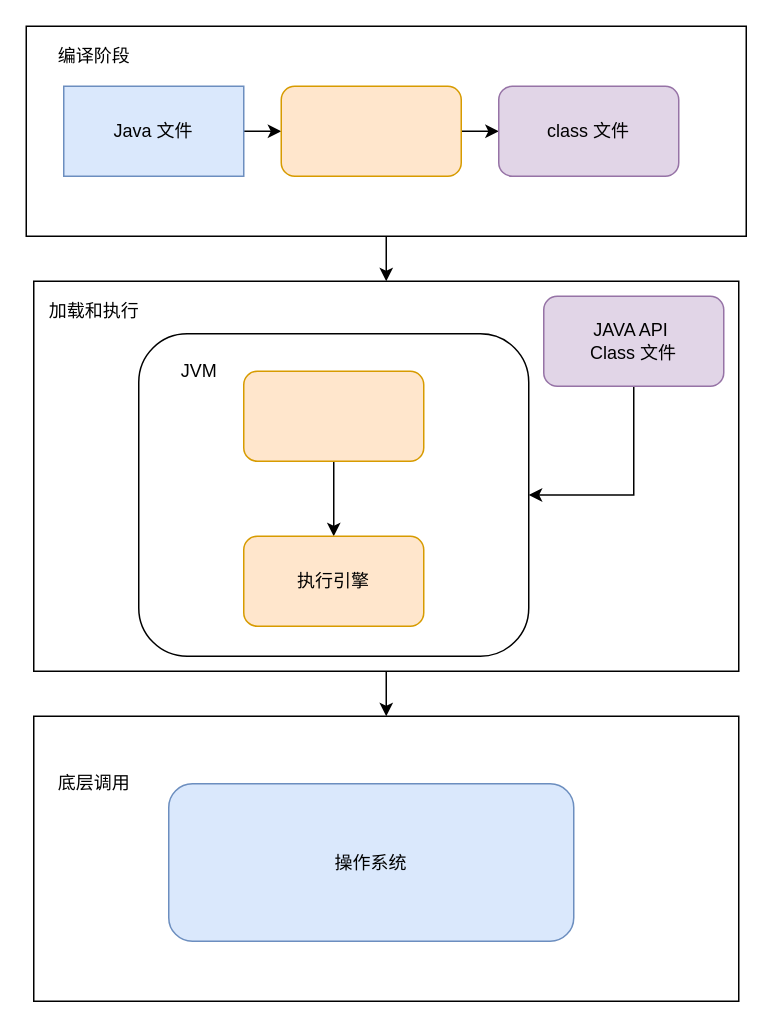
The diagram is 773 pixels wide and 1028 high, and some of its shapes have lost their labels. The shapes that lost their labels are listed below. From the top down, each one's box as (x1, y1, x2, y2) in pixels, then its label:
(280, 85, 461, 176): 编译器
(242, 370, 424, 461): 类加载器
